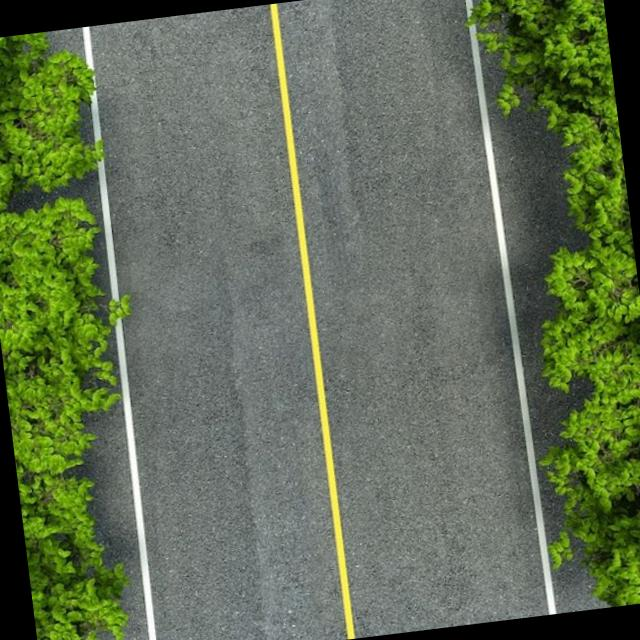asphalt: (48, 0, 599, 640)
grass: (466, 0, 640, 607), (0, 31, 131, 640)
